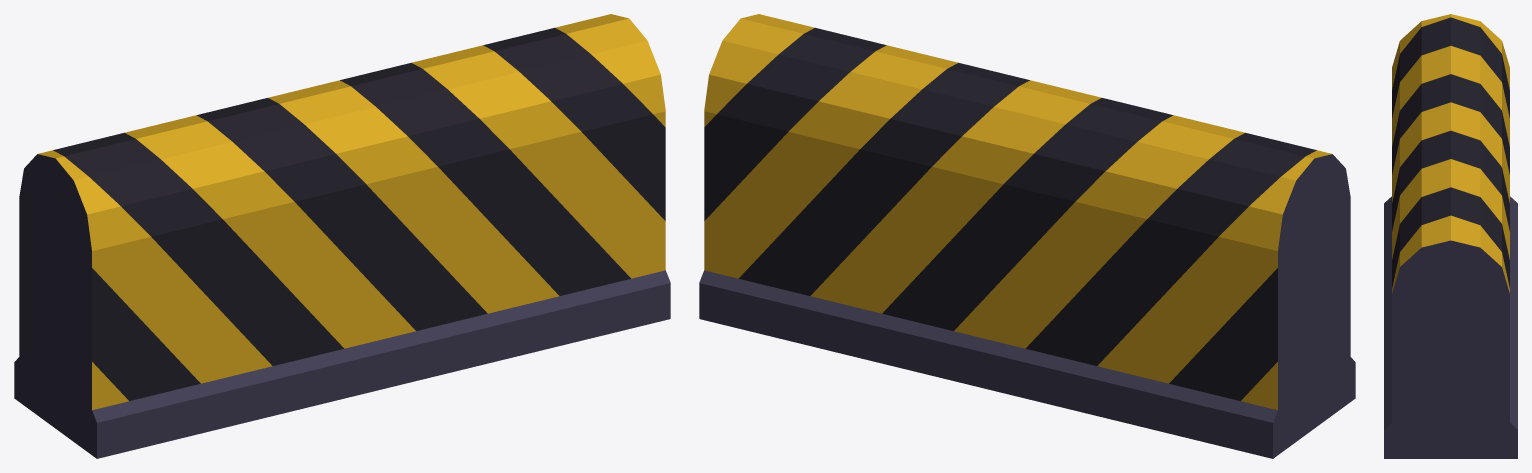
File: city-barrier-hazard.glb
3 views of the same model, side by side, from view 1: azimuth 30°, elevation 25°; view 2: azimuth 150°, elevation 25°; view 3: azimuth 270°, elevation 25° (orthographic). The views are drawn at different scales.
Visible parts, largest first — view 1: CityBarrierHazard; view 2: CityBarrierHazard; view 3: CityBarrierHazard.
Boxes of the visible parts, bbox=[...] form: CityBarrierHazard: bbox=[14, 14, 670, 458]; CityBarrierHazard: bbox=[699, 14, 1355, 458]; CityBarrierHazard: bbox=[1384, 14, 1517, 458].
Size of the model in its own units: 2 by 0.9 by 0.5.
